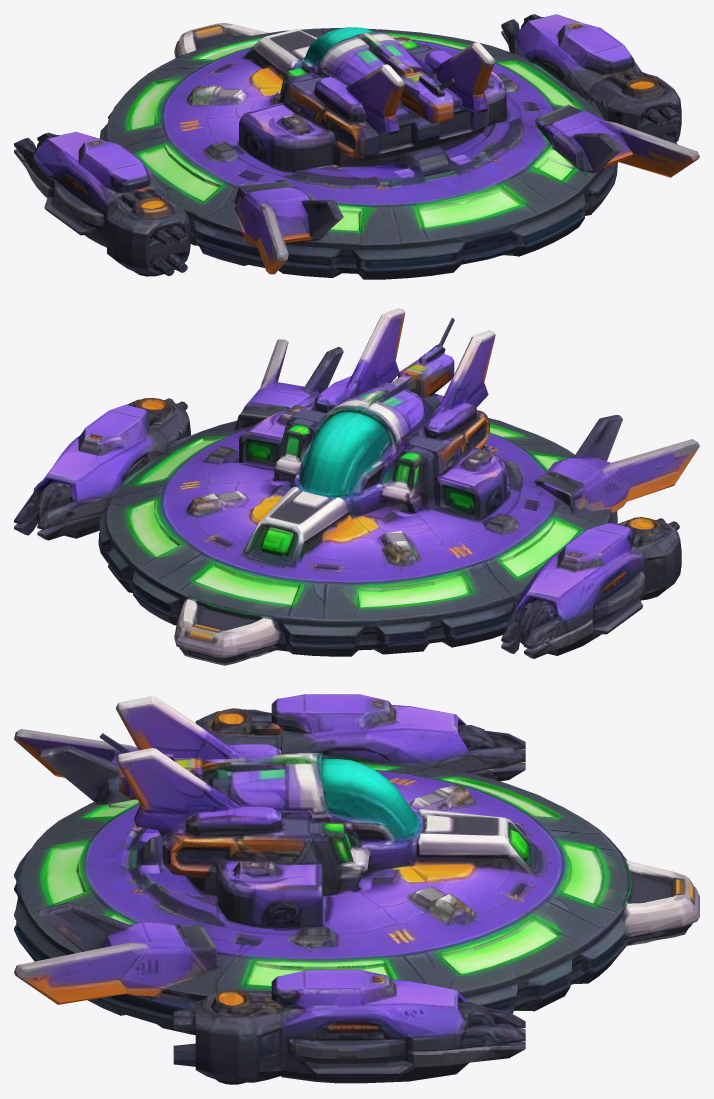
Rendered from panic.glb.
3 views of the same model, one above another, from view 1: azimuth 30°, elevation 25°; view 2: azimuth 150°, elevation 25°; view 3: azimuth 270°, elevation 25° (orthographic). The views are drawn at different scales.
Parts seen in each view (by area): view 1: mesh_input.001; view 2: mesh_input.001; view 3: mesh_input.001.
Part boxes in pixels (x1=…): mesh_input.001: x1=14, y1=14, x2=699, y2=279; mesh_input.001: x1=14, y1=308, x2=699, y2=665; mesh_input.001: x1=14, y1=694, x2=699, y2=1084.
Bounding box in the file's own units: 1.9 × 0.6874 × 1.7.
Materials: 1 (1 with a texture image).
